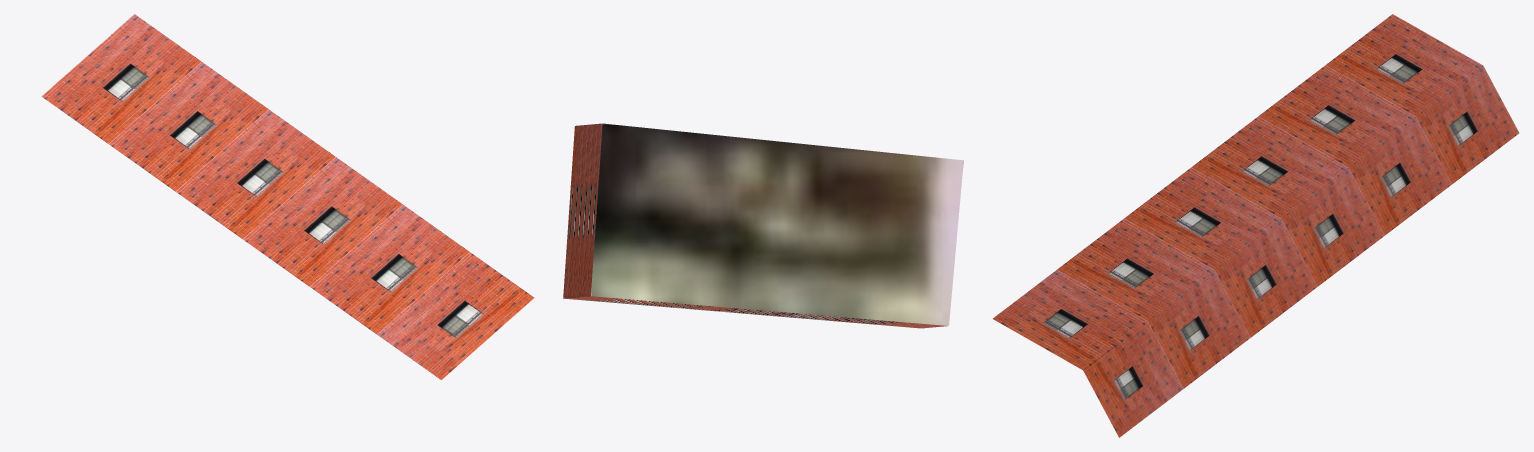
The picture shows the model from 3 angles, left to right: view 1: azimuth 30°, elevation 25°; view 2: azimuth 150°, elevation 25°; view 3: azimuth 270°, elevation 25°; orthographic projection. The views are drawn at different scales.
Size of the model in its own units: 16.62 by 12.49 by 20.7.
4 materials, 4 textured.
